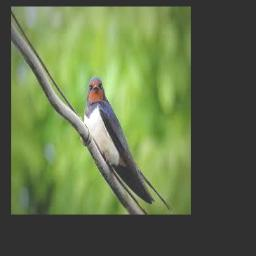Swallow: (83, 76, 172, 211)
